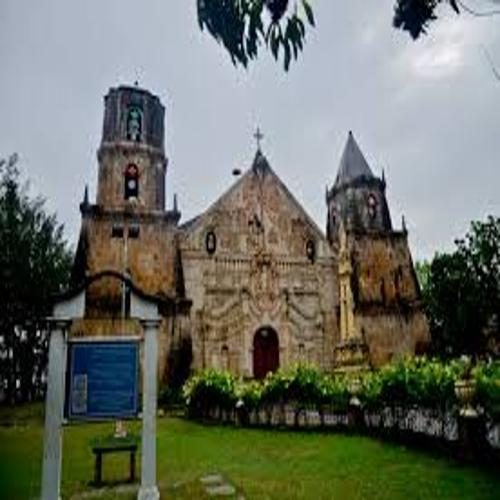Miagao Church: (69, 66, 447, 391)
